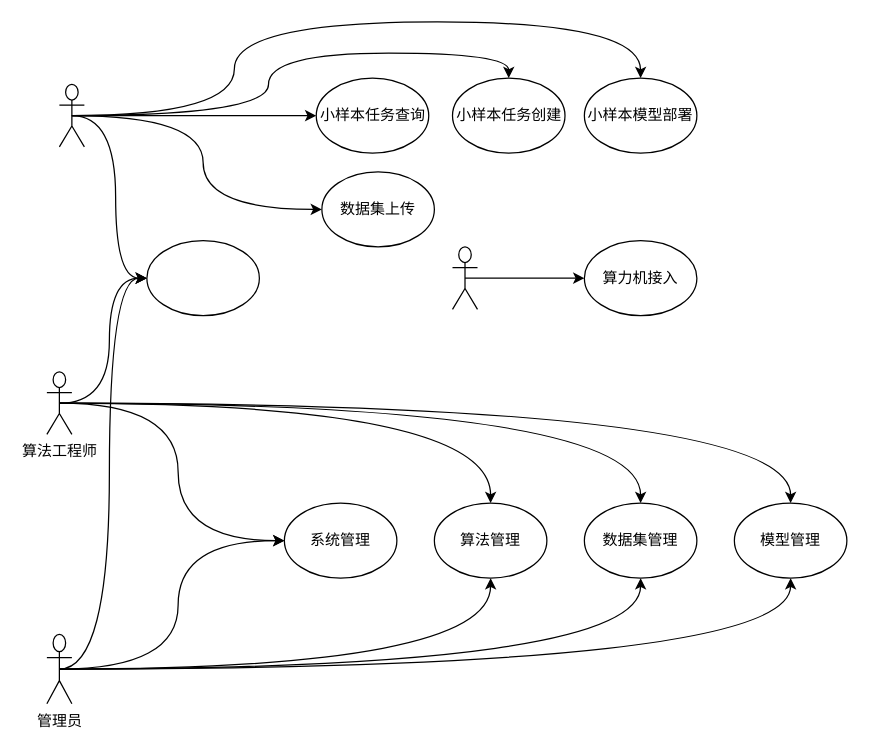
The diagram is 869 pixels wide and 751 high, and some of its shapes have lost their labels. The shapes that lost their labels are listed below. From the top down, each one's centre as x and y in pixels, then its label:
At point 71,115: "普通开发者".
At point 202,277: "登陆验证".
At point 464,277: "算力机提供者".
